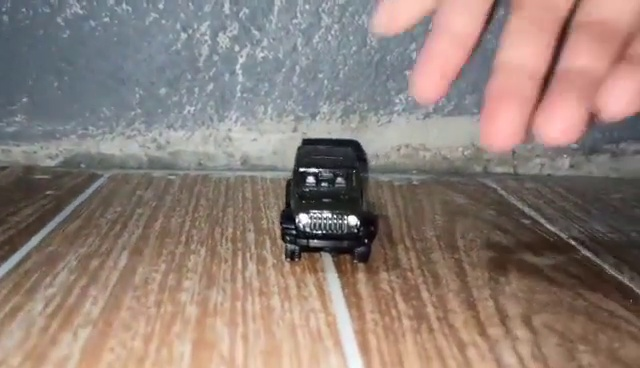car: (280, 136, 380, 266)
